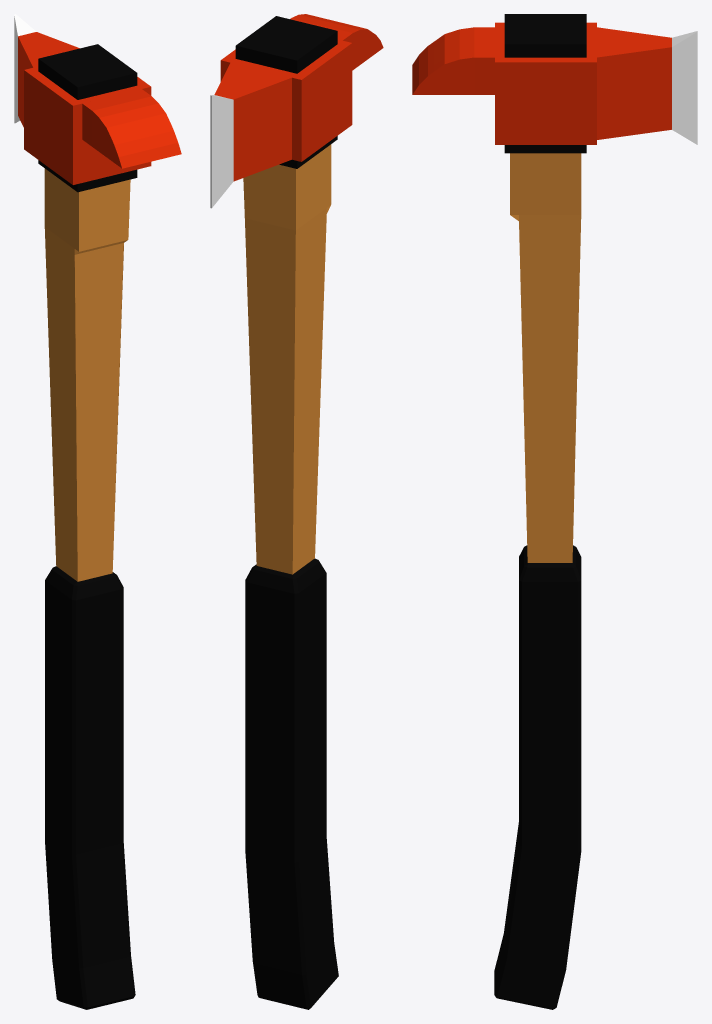
Rendered from axe.fbx.
3 views of the same model, side by side, from view 1: azimuth 30°, elevation 25°; view 2: azimuth 150°, elevation 25°; view 3: azimuth 270°, elevation 25° (orthographic). The views are drawn at different scales.
Visible parts, largest first — view 1: handiwork, Stlk, blad; view 2: handiwork, Stlk, blad; view 3: blad, handiwork, Stlk.
Part boxes in pixels (x1=…): handiwork: x1=45, y1=566, x2=135, y2=1009; Stlk: x1=44, y1=168, x2=130, y2=581; blad: x1=14, y1=14, x2=181, y2=192; handiwork: x1=245, y1=558, x2=338, y2=1009; Stlk: x1=243, y1=144, x2=331, y2=574; blad: x1=210, y1=14, x2=383, y2=208; blad: x1=412, y1=14, x2=697, y2=153; handiwork: x1=494, y1=545, x2=581, y2=1009; Stlk: x1=510, y1=153, x2=581, y2=562.
Size of the model in its own units: 302 by 3434 by 916.
